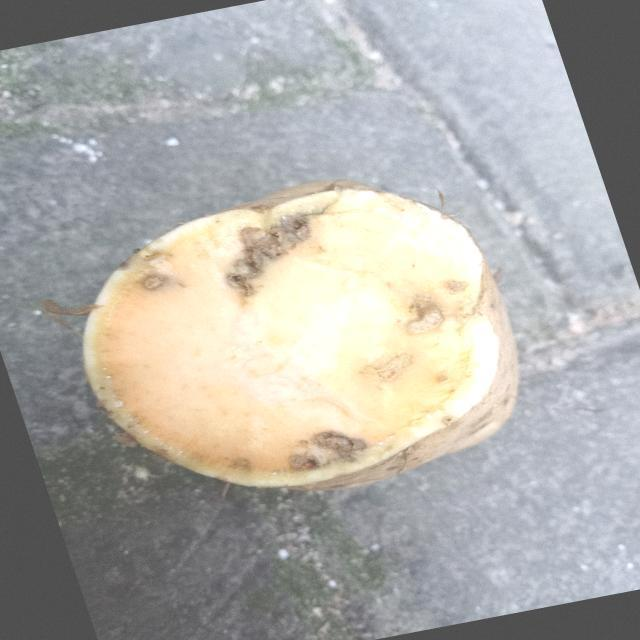Sick Sweet Potato_Tuber Rot: (83, 190, 518, 490)
